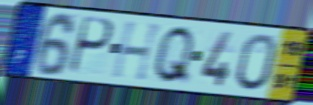4: (199, 29, 234, 89)
6: (33, 10, 79, 78)
H: (110, 19, 166, 83)
O: (234, 31, 279, 93)
P: (66, 15, 116, 77)
Q: (151, 24, 197, 87)
